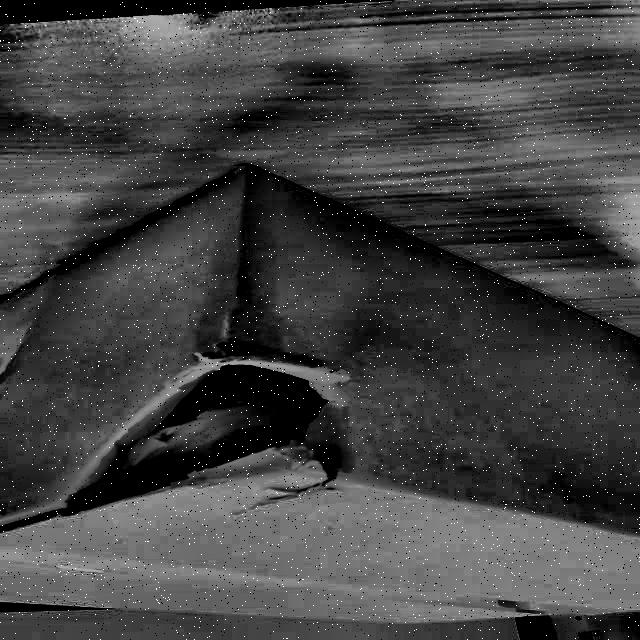box: (1, 154, 640, 635)
hole: (64, 339, 340, 523)
